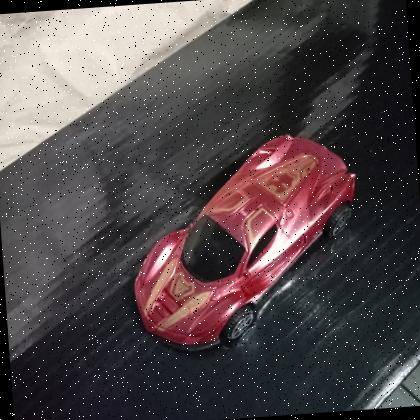Car: (117, 124, 372, 361)
